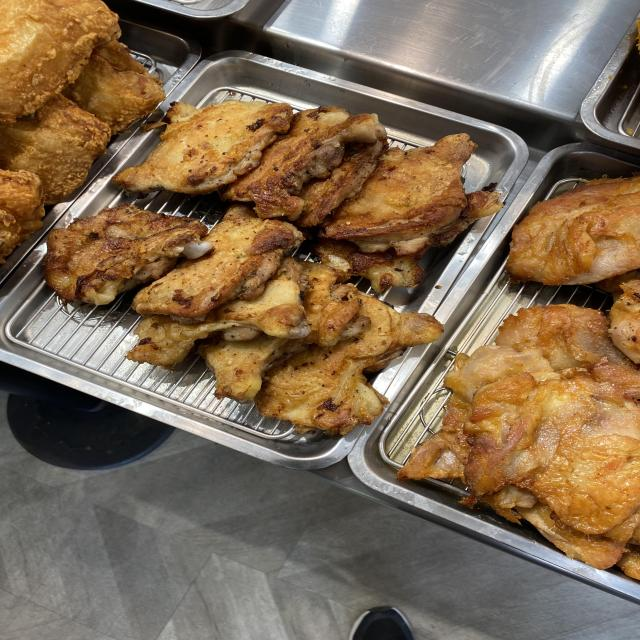Chicken Leg Steak: (223, 140, 399, 340)
